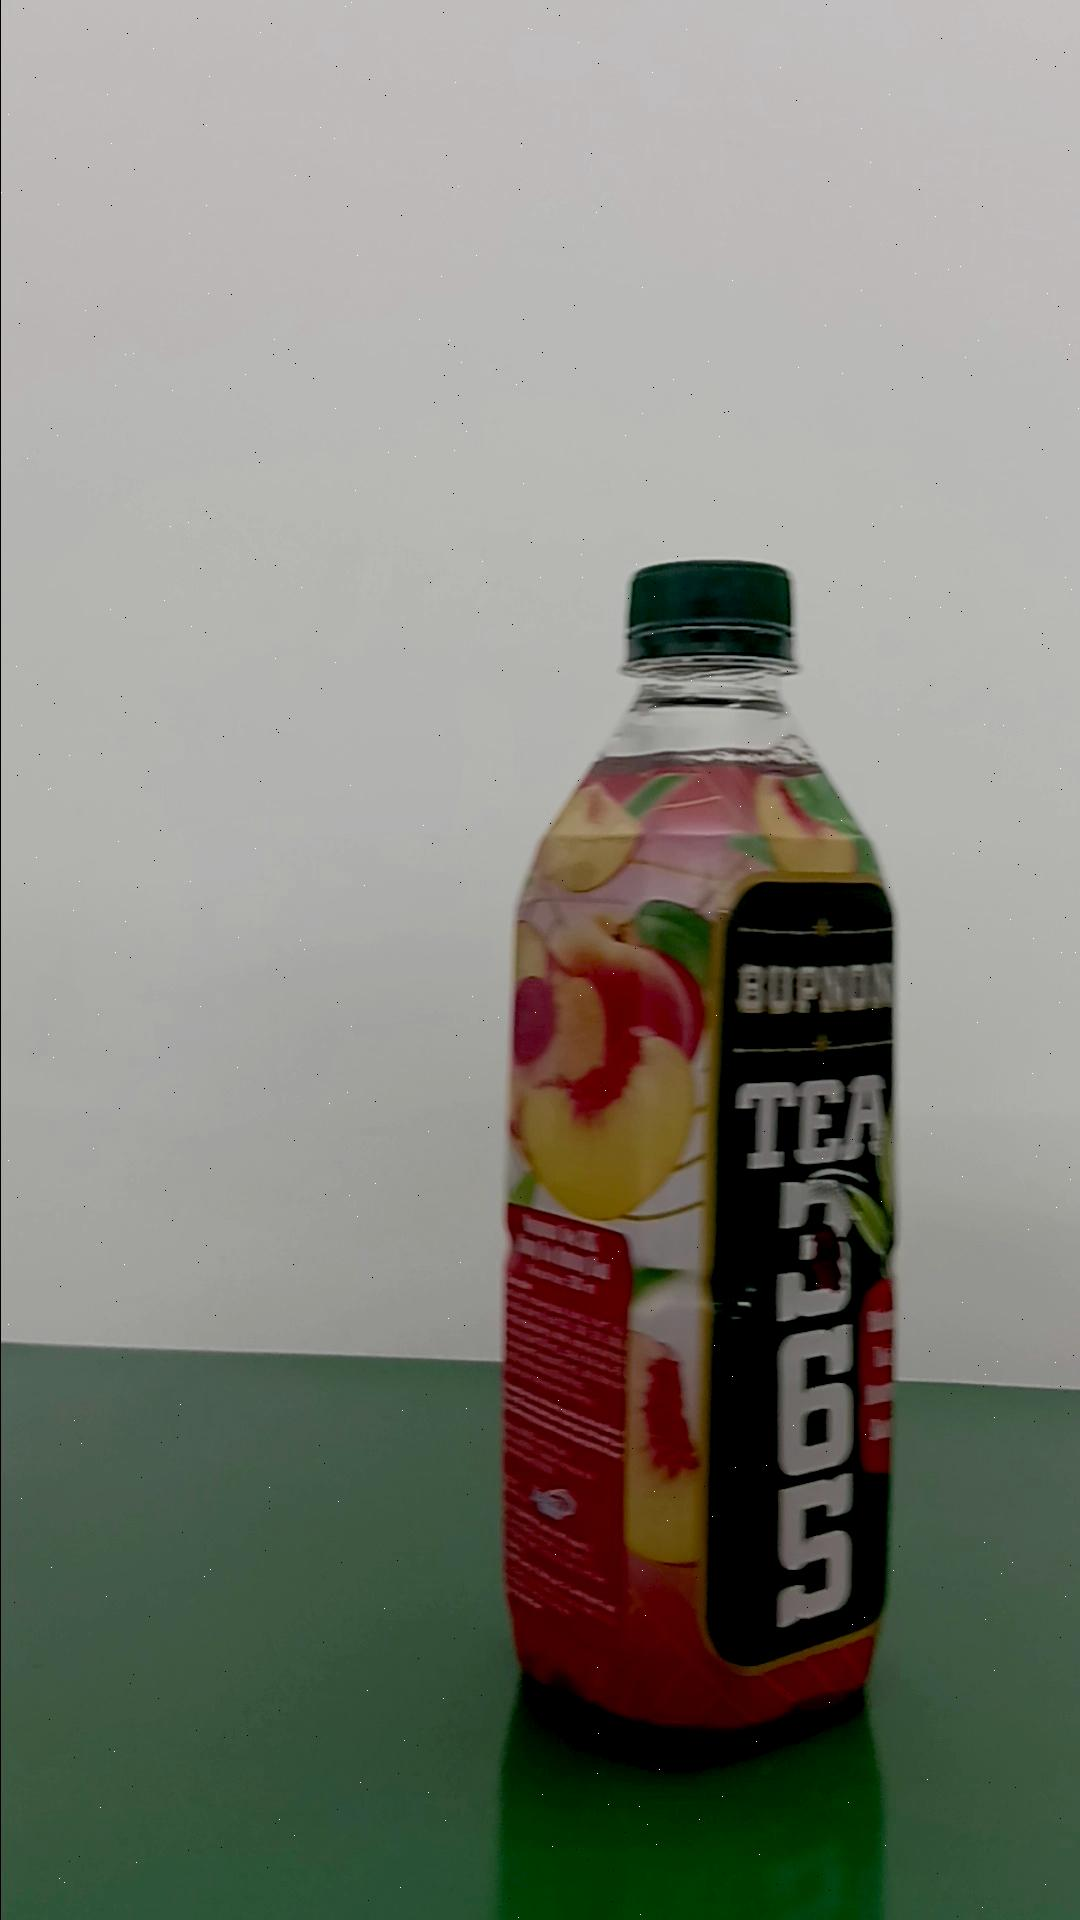loi rach va lap chai: (500, 551, 897, 1759)
